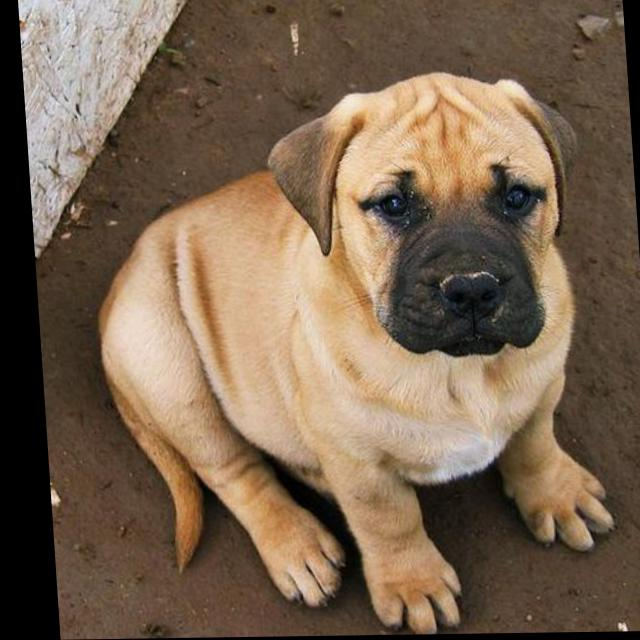bullmastiff: (78, 70, 615, 640)
